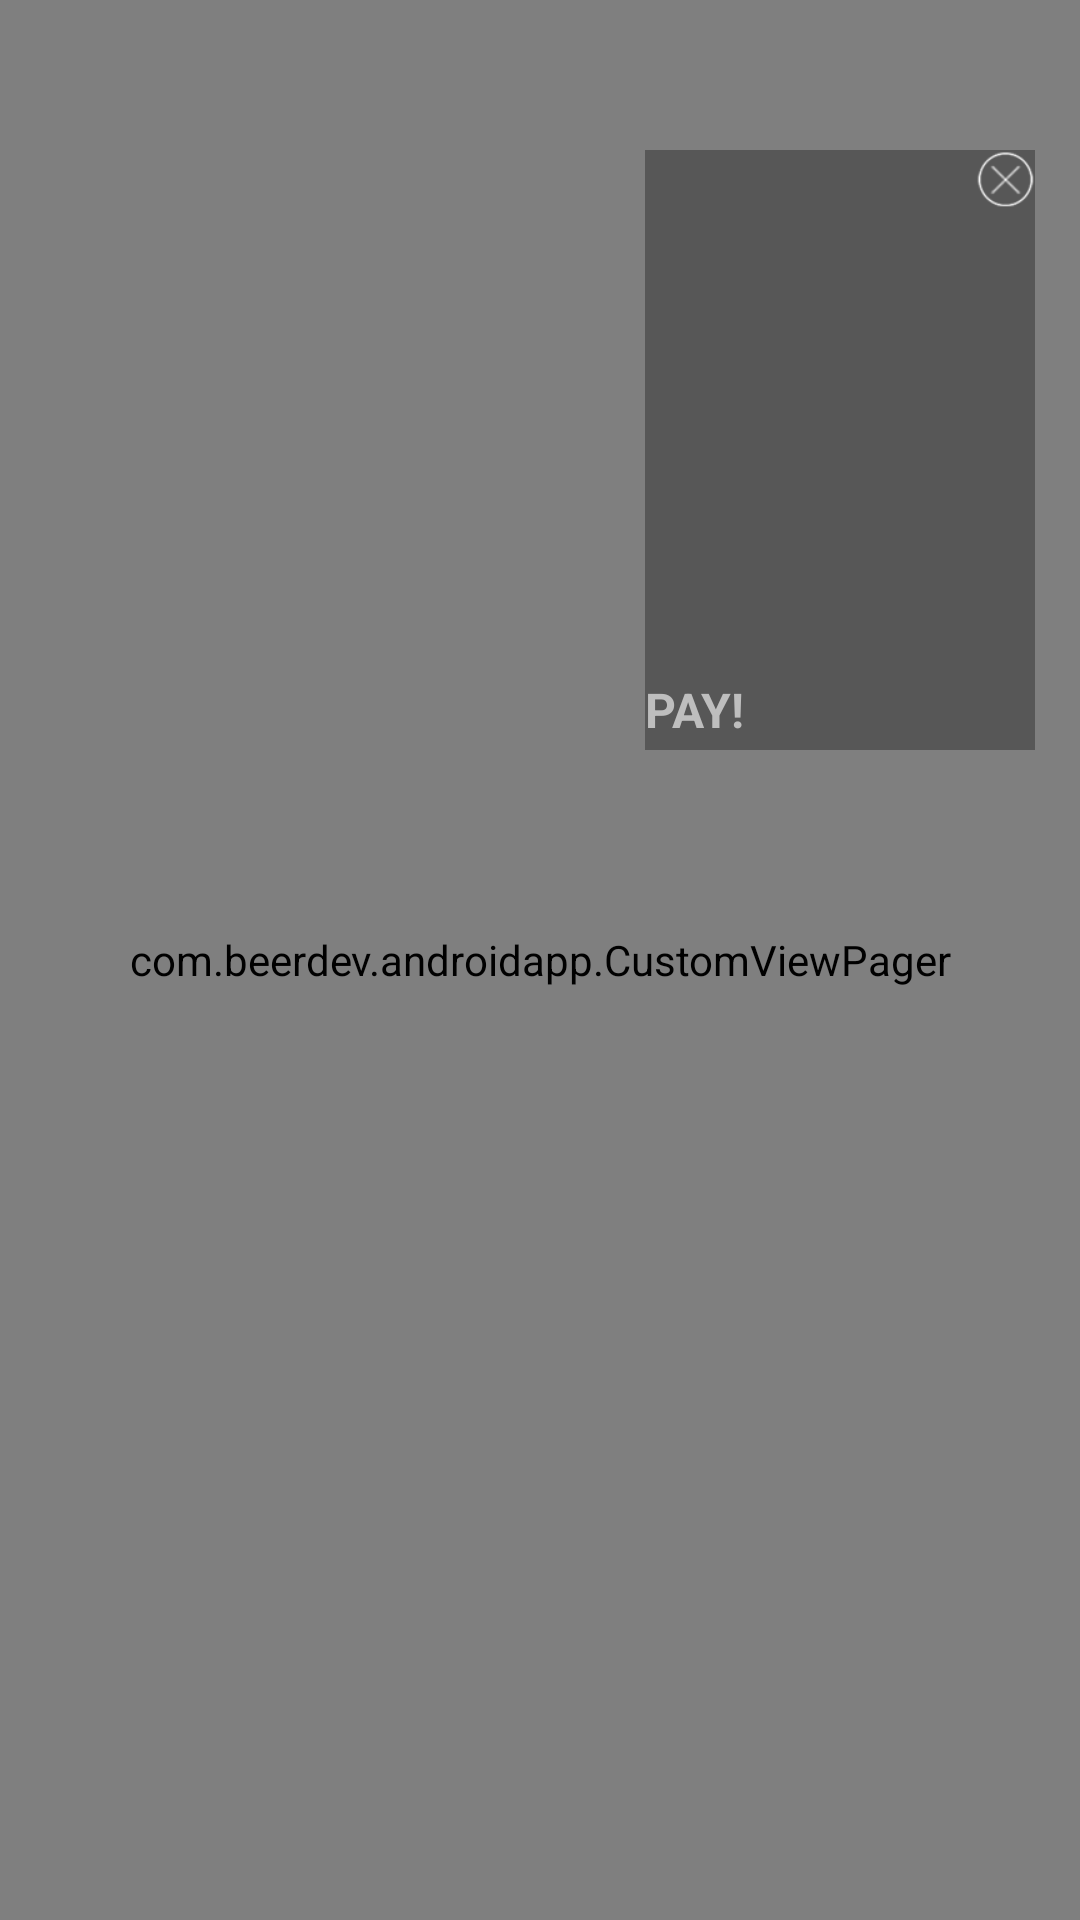

Point at icon controls on the screen. Image size 1080 × 1920, points as point (x, y).
cross: point (1005, 179)
